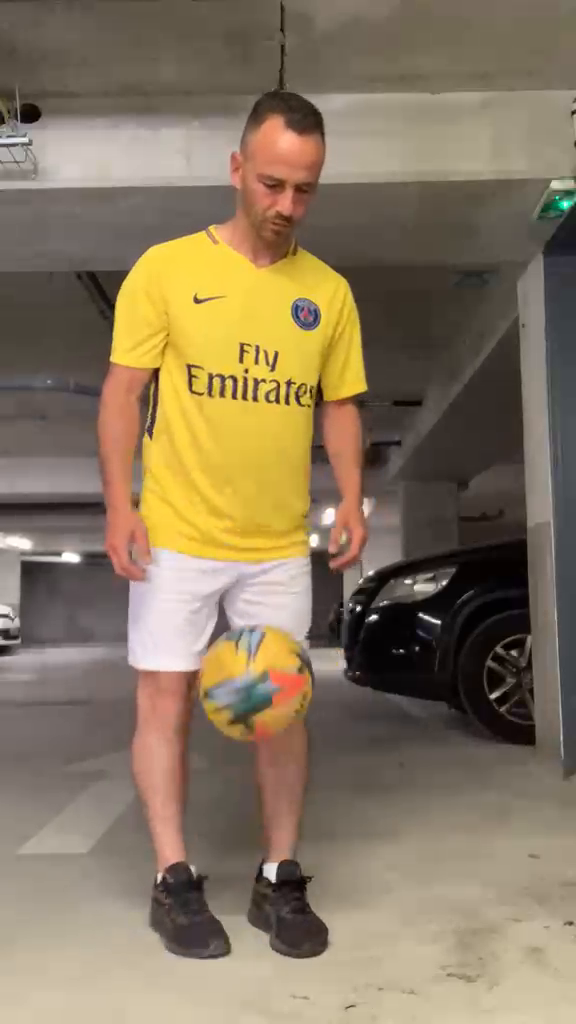ball: (195, 625, 315, 745)
